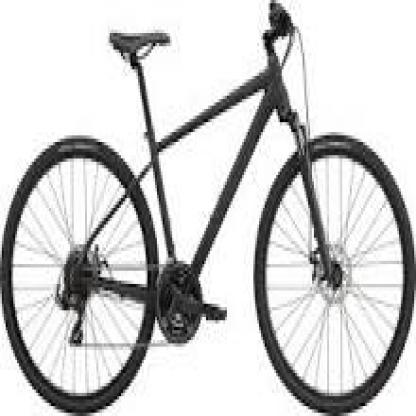Bike: (2, 2, 416, 416)
